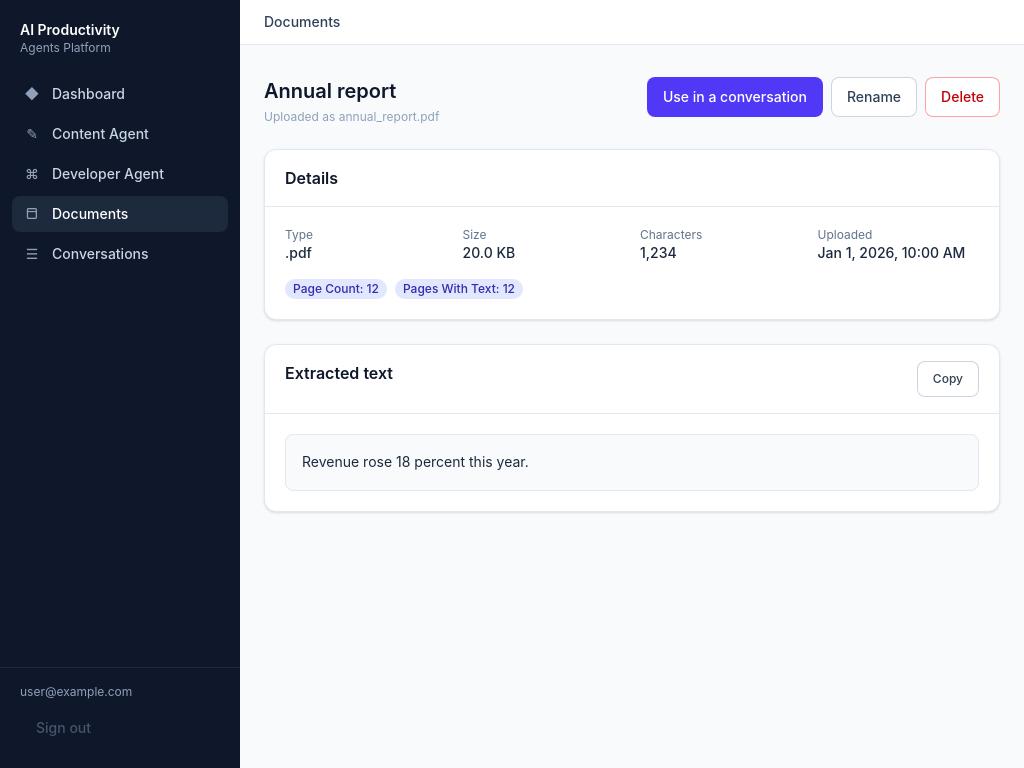
Test case: Document detail › renames a document
Click the button "Rename" at (874, 97), box x1=831 y1=77 x2=917 y2=117
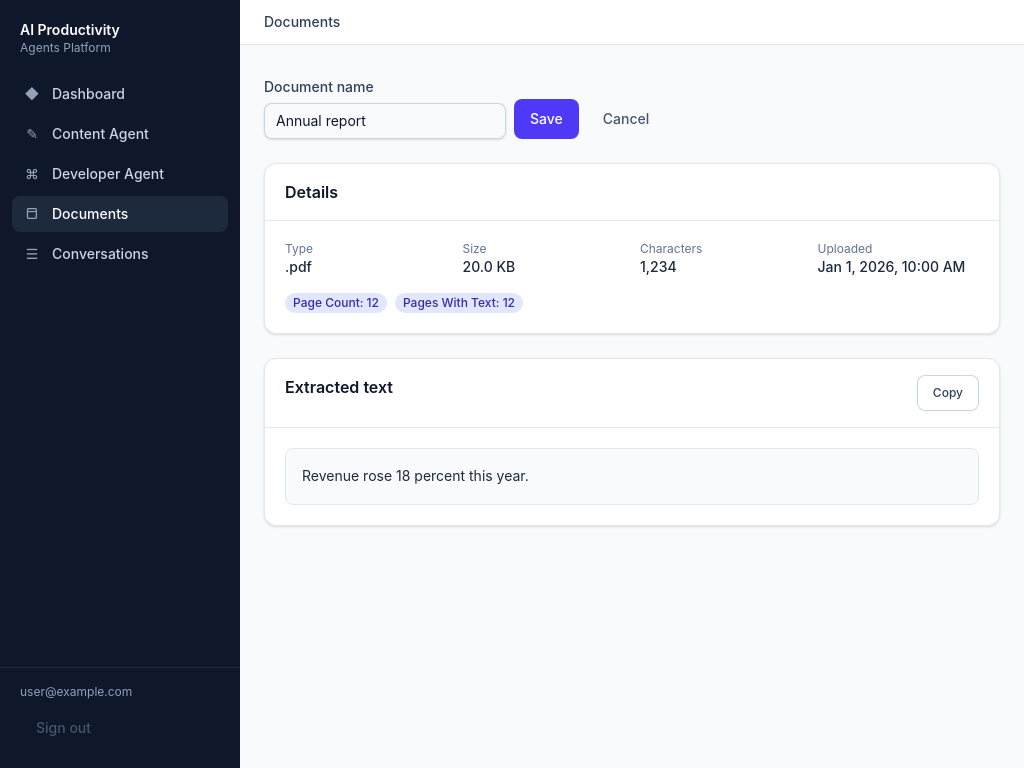
Replace the text in the field labelled "Document name" with "Q4 report" at (385, 121), box x1=264 y1=103 x2=506 y2=139
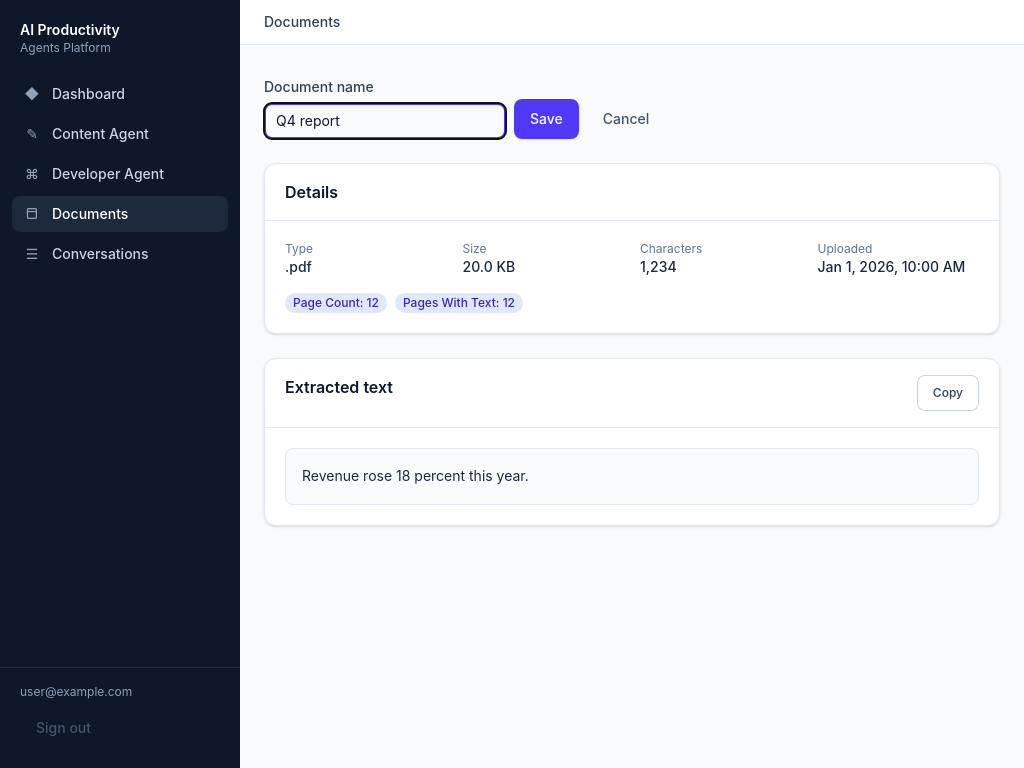
Click the button "Save" at (546, 119), box x1=514 y1=99 x2=579 y2=139
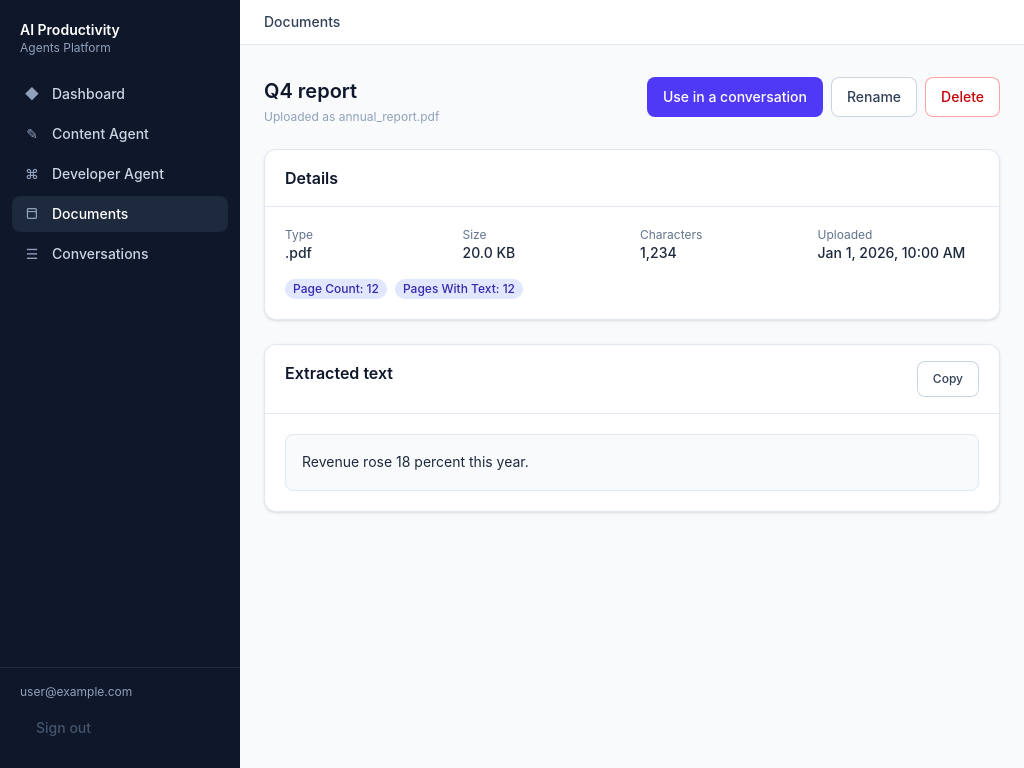
Expected: the heading "Q4 report" is shown, x1=264 y1=79 x2=357 y2=103
